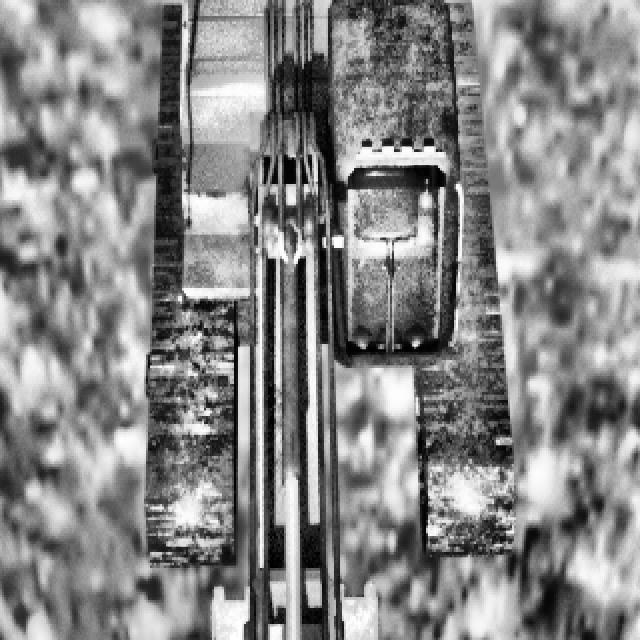excavator: (142, 0, 512, 640)
